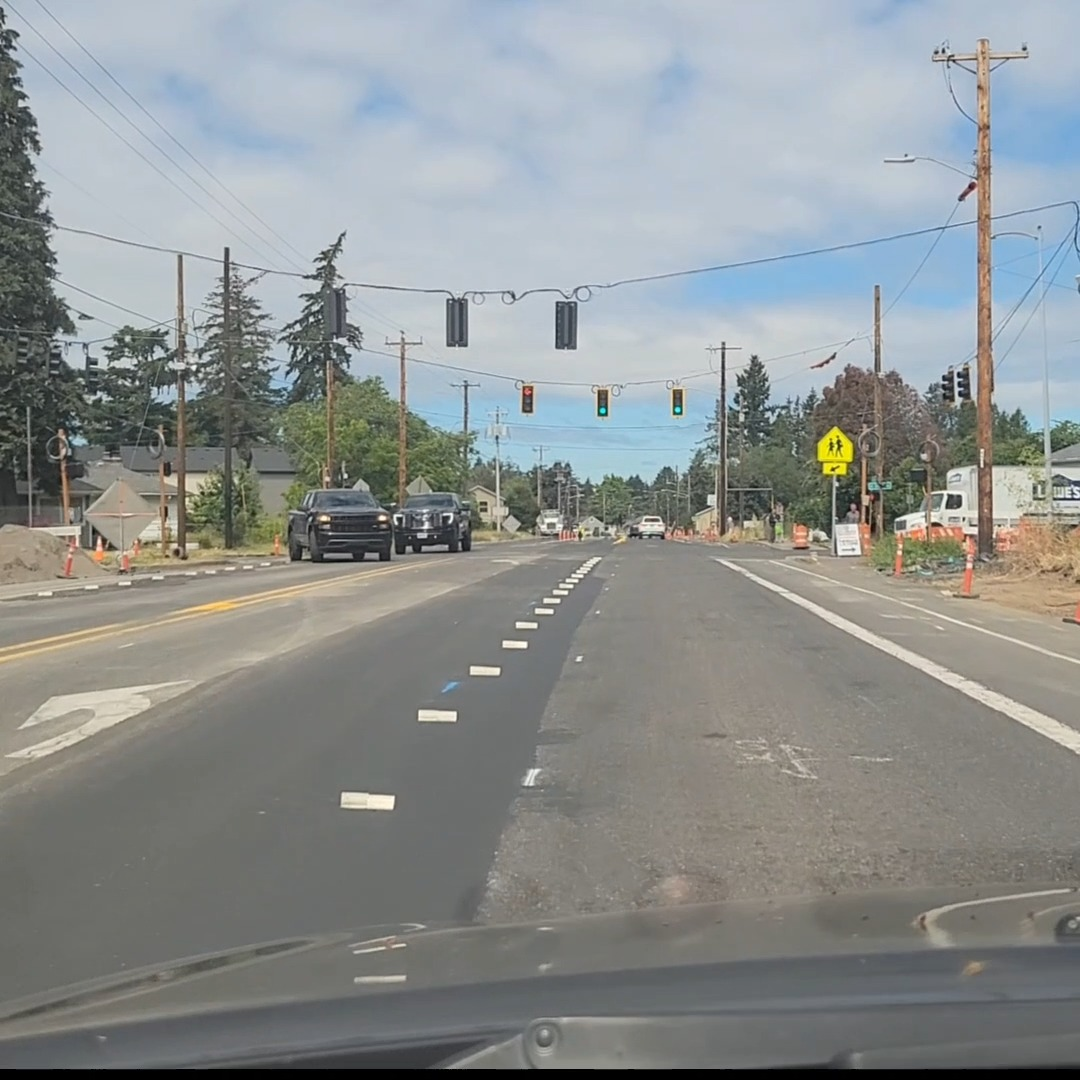car: (287, 490, 394, 561), (390, 491, 474, 554), (628, 515, 666, 539)
crosswalk-sign: (816, 425, 854, 465)
delineator: (960, 535, 976, 596), (63, 538, 76, 577), (893, 530, 904, 575), (118, 550, 130, 572), (272, 532, 281, 555), (132, 538, 140, 556)
